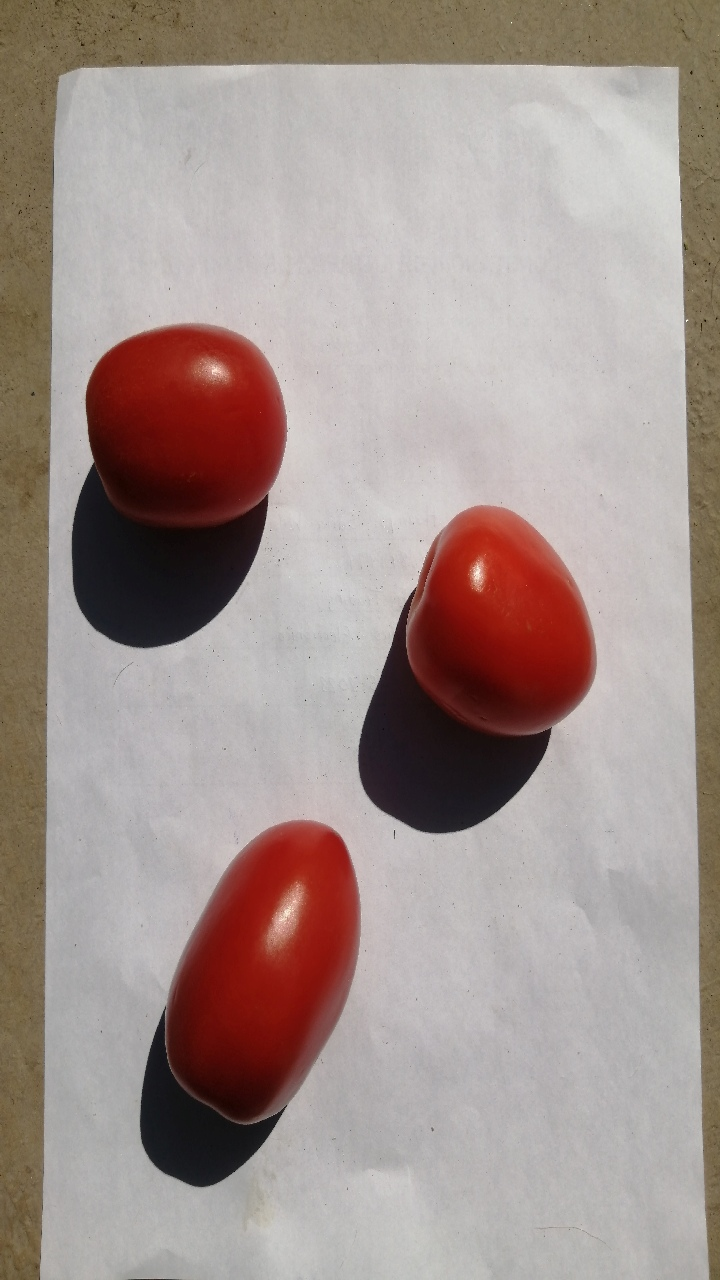tomateRojo: (128, 805, 391, 1160), (46, 277, 314, 575), (392, 491, 624, 757)
